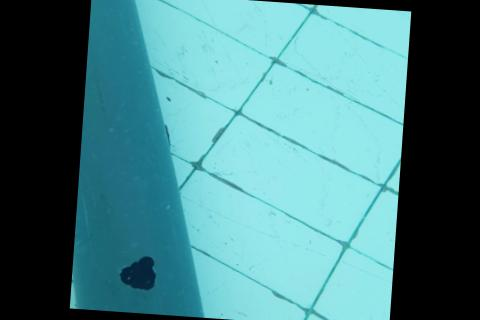kebocoran: (116, 252, 159, 293)
